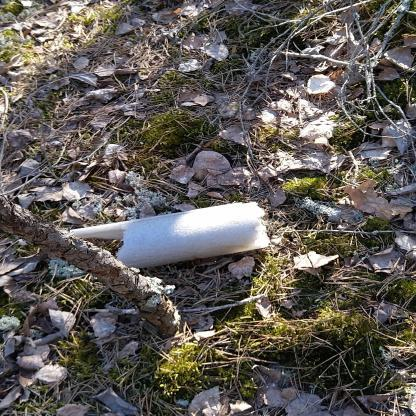kopuk: (71, 202, 272, 269)
